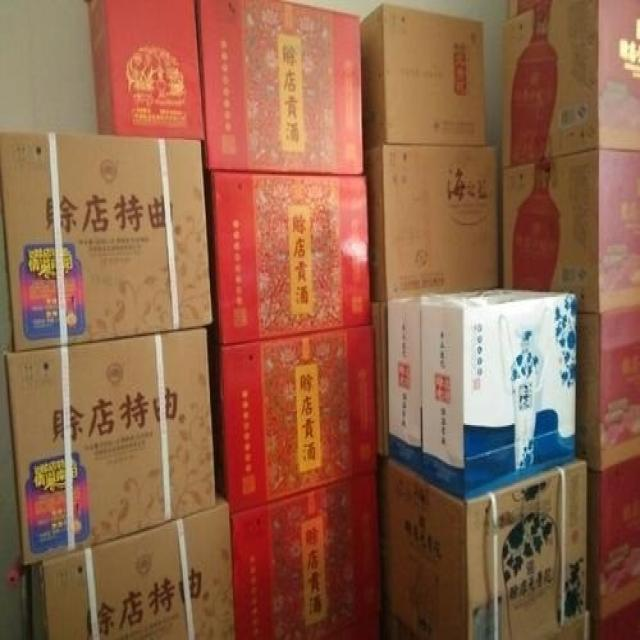box: (0, 329, 216, 568), (0, 135, 212, 351), (385, 456, 587, 638), (421, 290, 577, 501), (28, 486, 237, 638), (214, 323, 378, 515), (197, 1, 362, 175), (209, 171, 372, 345), (230, 470, 381, 638), (501, 146, 639, 316), (501, 0, 639, 165), (363, 143, 499, 304), (387, 284, 501, 472), (360, 3, 487, 149), (83, 0, 205, 138), (575, 305, 639, 474), (588, 459, 639, 636), (525, 614, 588, 638), (605, 614, 639, 638)
